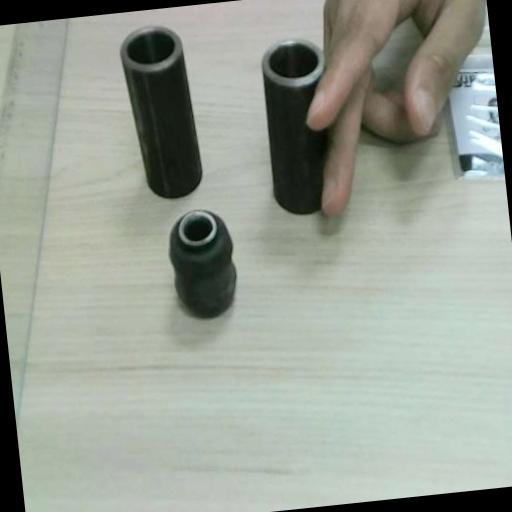peca: (120, 27, 202, 198), (262, 39, 328, 212), (169, 210, 236, 317)
